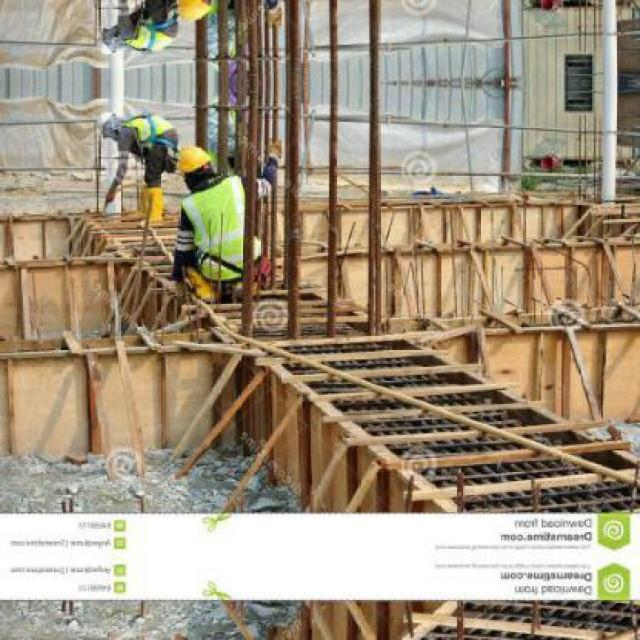Reflective-Jacket: (168, 174, 272, 299)
Safety-Helmet: (172, 140, 222, 182)
